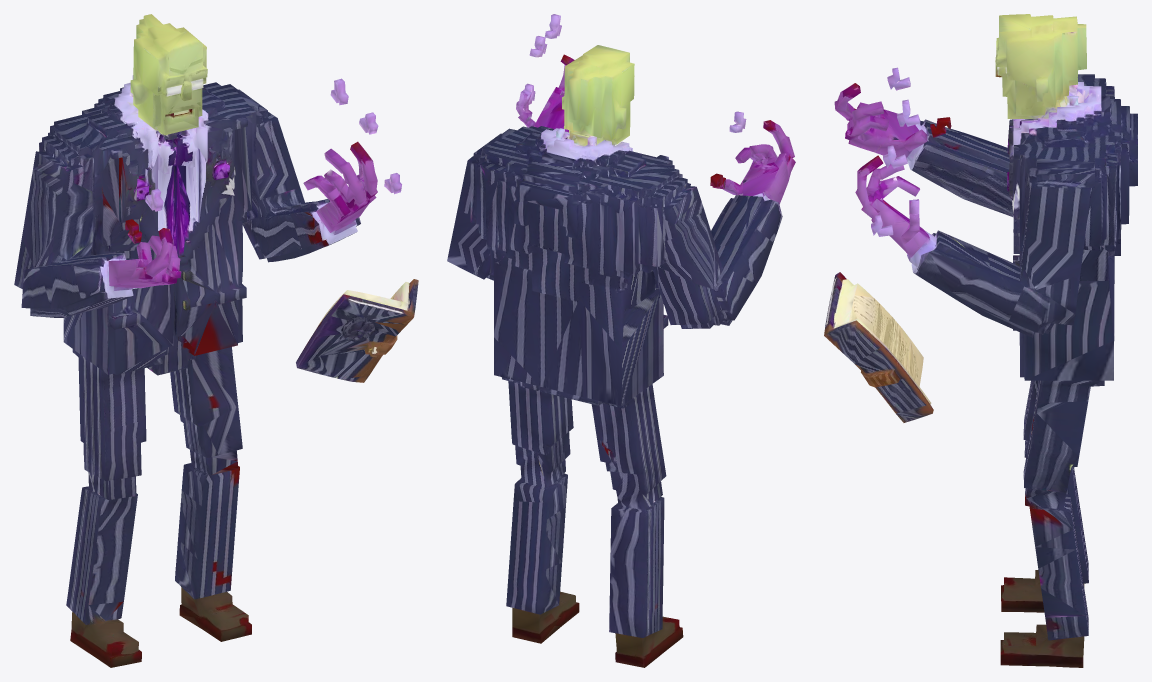
File: necromancer.6k.glb
3 renders of one model, left to right at view 1: azimuth 30°, elevation 25°; view 2: azimuth 150°, elevation 25°; view 3: azimuth 270°, elevation 25°, orthographic. The views are drawn at different scales.
Parts seen in each view (by area): view 1: mesh_node; view 2: mesh_node; view 3: mesh_node.
Part boxes in pixels (box(x1,y1,x2,y2)): mesh_node: box(14, 14, 418, 667); mesh_node: box(447, 14, 795, 667); mesh_node: box(824, 14, 1137, 667).
Bounding box in the file's own units: 0.9982 × 1.9 × 0.8755.
1 material, 1 textured.
